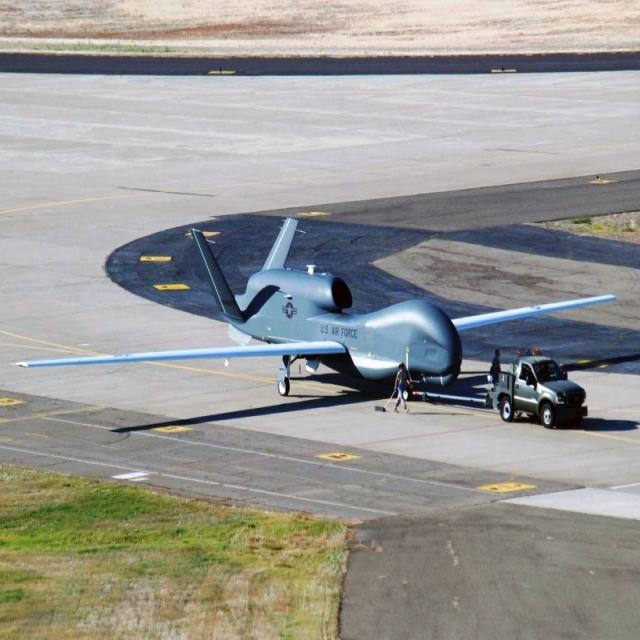MIL_Plane: (10, 216, 618, 402)
